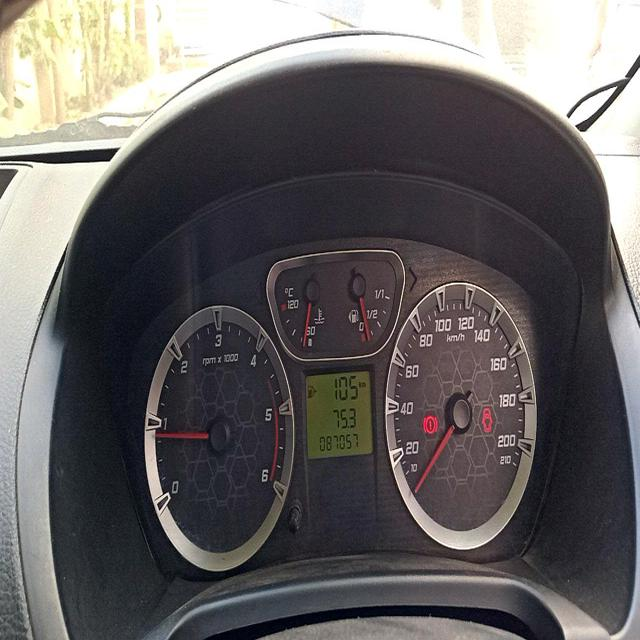odometer: (318, 432, 360, 453)
